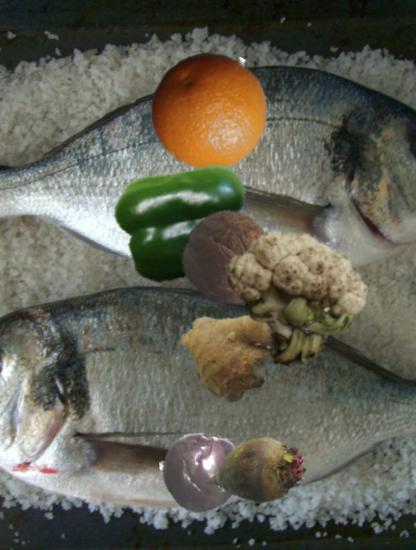Beetroot: (203, 417, 312, 526)
Cauliflower: (221, 226, 370, 375)
Ginger: (180, 285, 295, 400)
Orange: (149, 49, 271, 171)
Passion: (160, 432, 244, 516)
Pepper: (119, 157, 255, 293)
Walnut: (182, 211, 276, 305)
